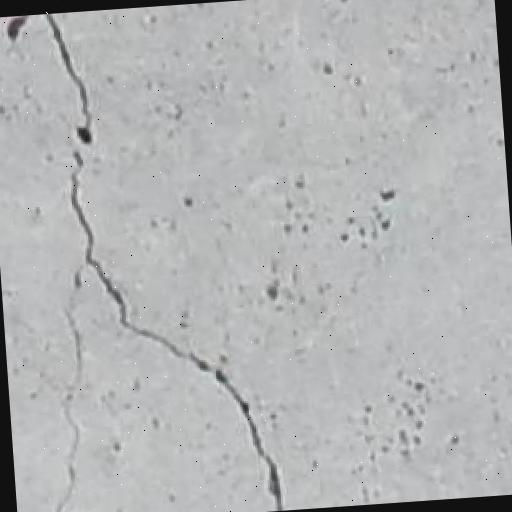spalling: (39, 20, 293, 506)
